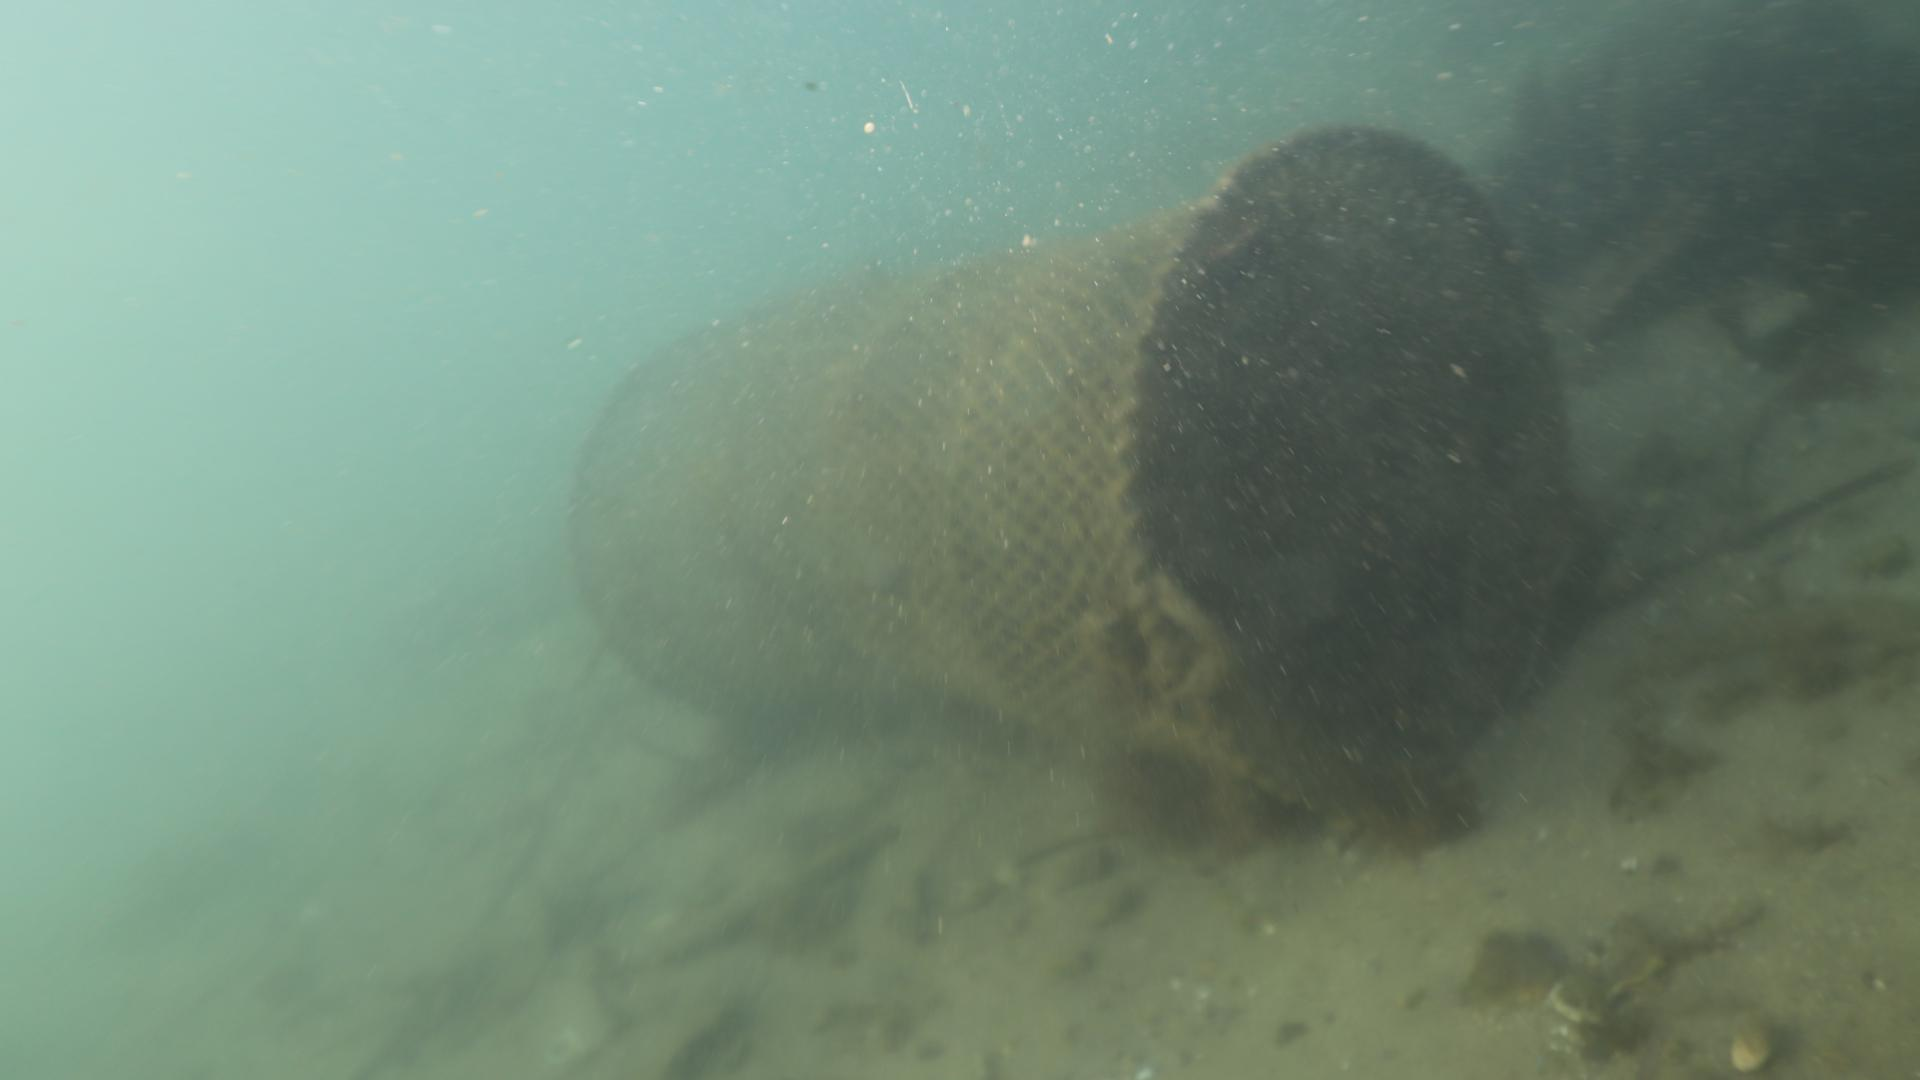spring fish trap: (567, 117, 1575, 815)
